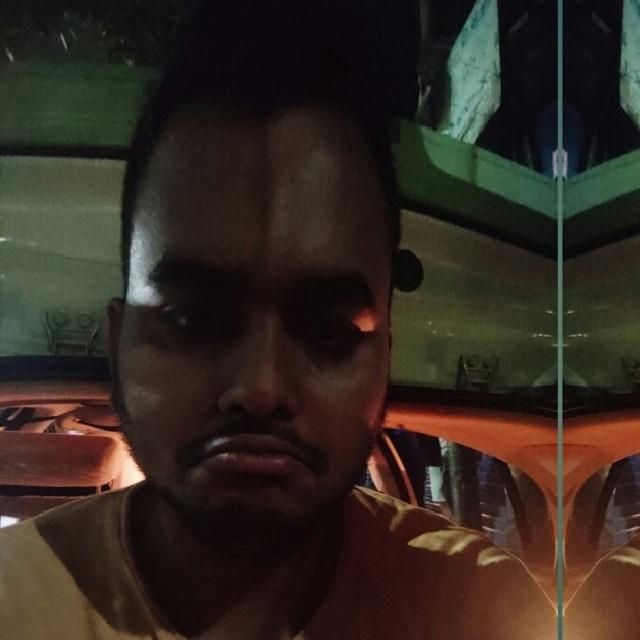Sad: (74, 85, 413, 549)
